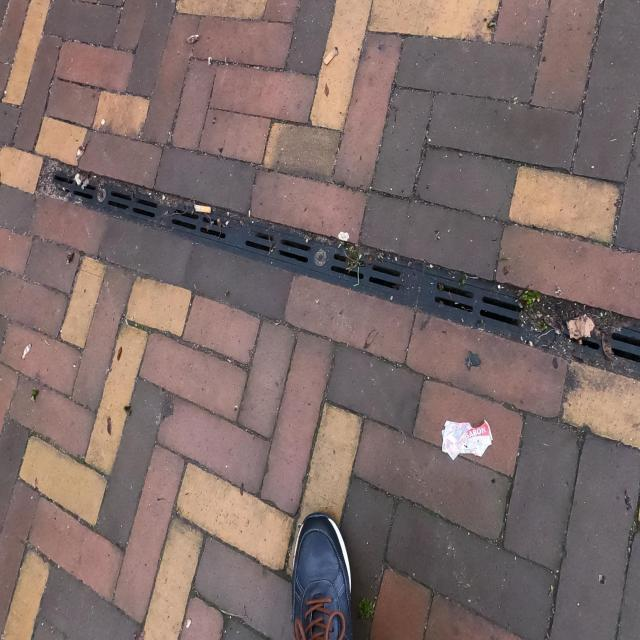Paper: (442, 418, 494, 462)
